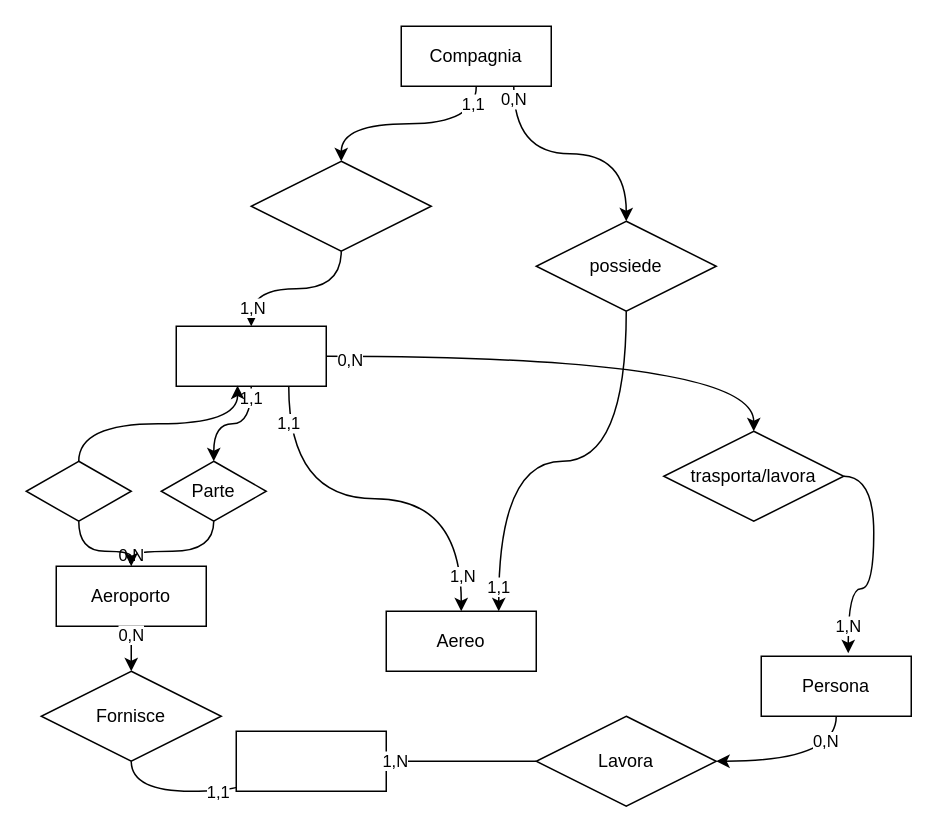
This 938x833 diagram has some shape labels left out. The shapes that lost their labels are listed below. From the top down, each one's box as (x1, y1, x2, y2) in pixels, then its label:
(250, 160, 431, 251): organizza
(175, 325, 326, 386): Volo
(25, 460, 131, 521): Arriva
(235, 730, 386, 791): Servizio
